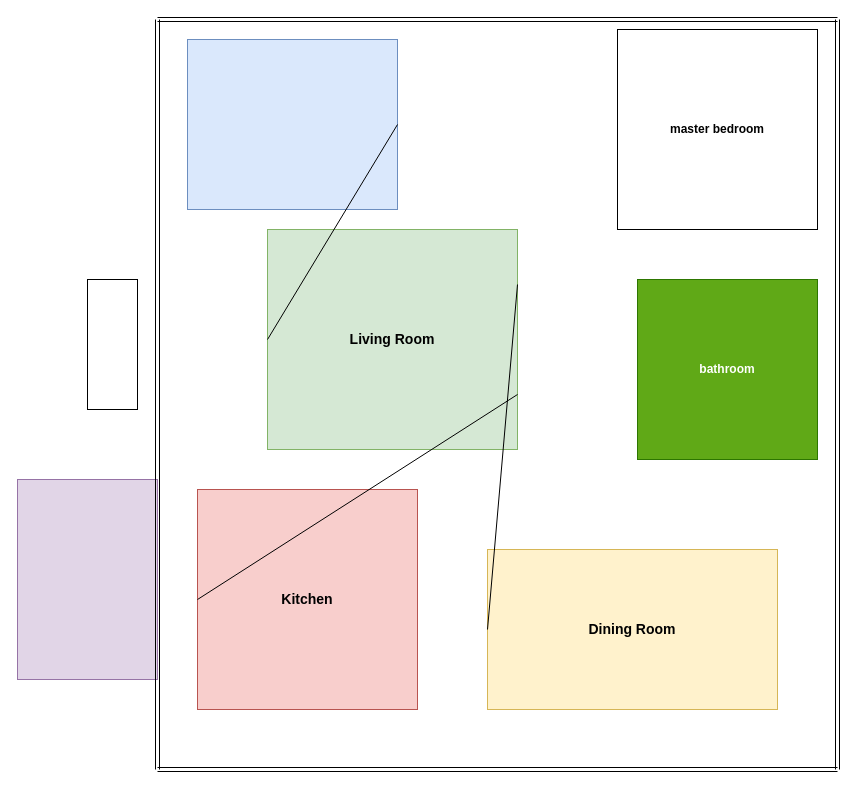
The diagram is 857 pixels wide and 789 high, and some of its shapes have lost their labels. The centre of each missing label's shape, as x and y in pixels:
"front entrance" goes at pixel 112 344.
"guestroom" goes at pixel 292 124.
"Small Garage" goes at pixel 87 579.
